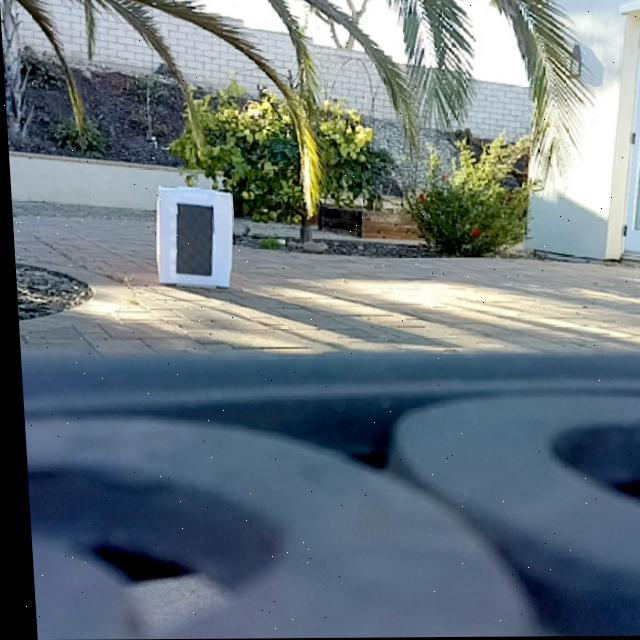led: (174, 204, 212, 279)
